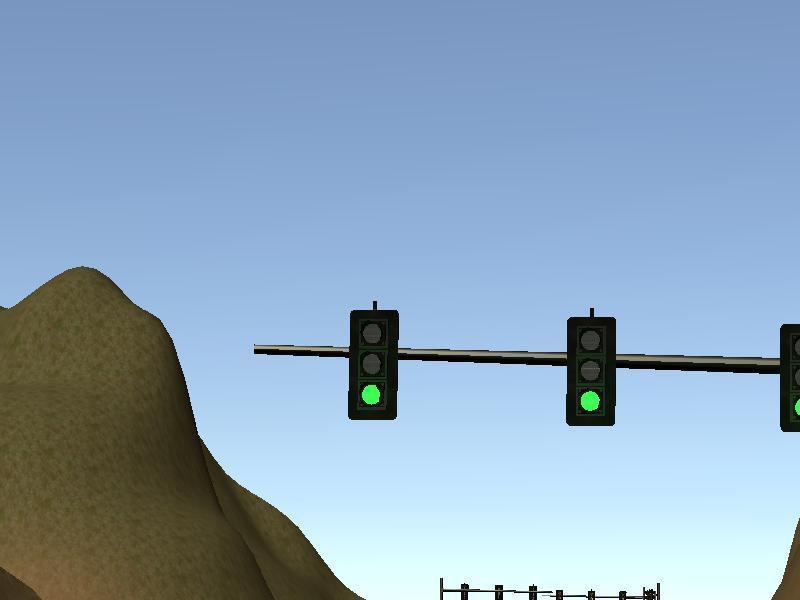Green: (350, 310, 398, 419), (567, 317, 615, 426)
